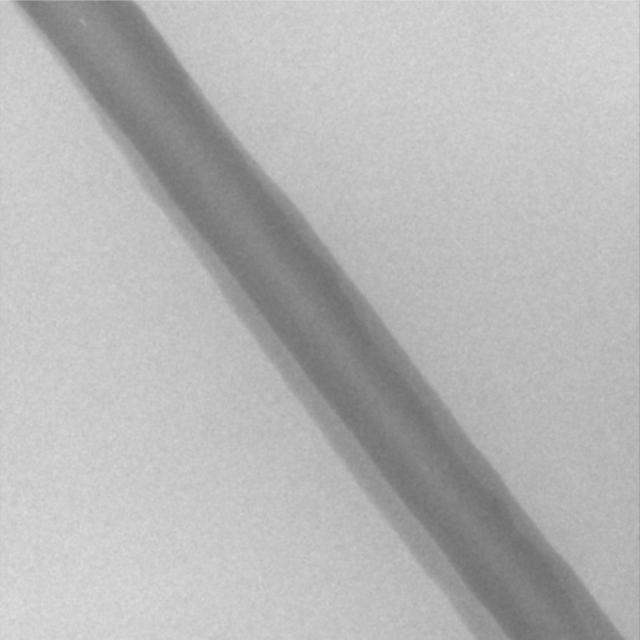air hole: (77, 16, 87, 27)
